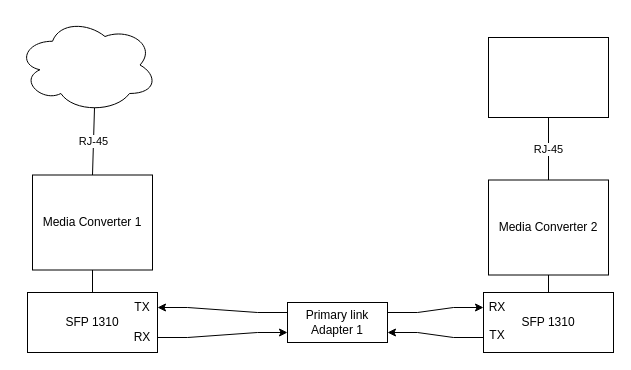
Image size: 631x370. Some labels were removed from this diagram. The centre of each missing label's shape, as x and y in pixels:
"Network" belongs at (x=87, y=64).
"PC" belongs at (x=548, y=77).
